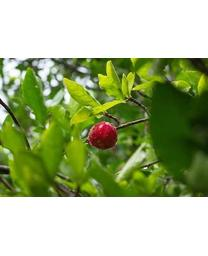cherry: (88, 121, 118, 150)
